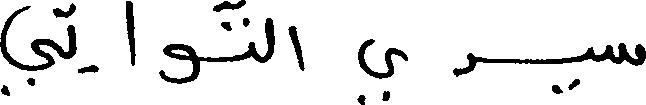X: (0, 1, 52, 100), (360, 34, 406, 104), (164, 39, 197, 88), (608, 38, 645, 70), (288, 21, 304, 75), (125, 0, 135, 70), (455, 48, 474, 81), (66, 0, 75, 63), (247, 13, 254, 63), (268, 13, 274, 64), (587, 42, 592, 64)
